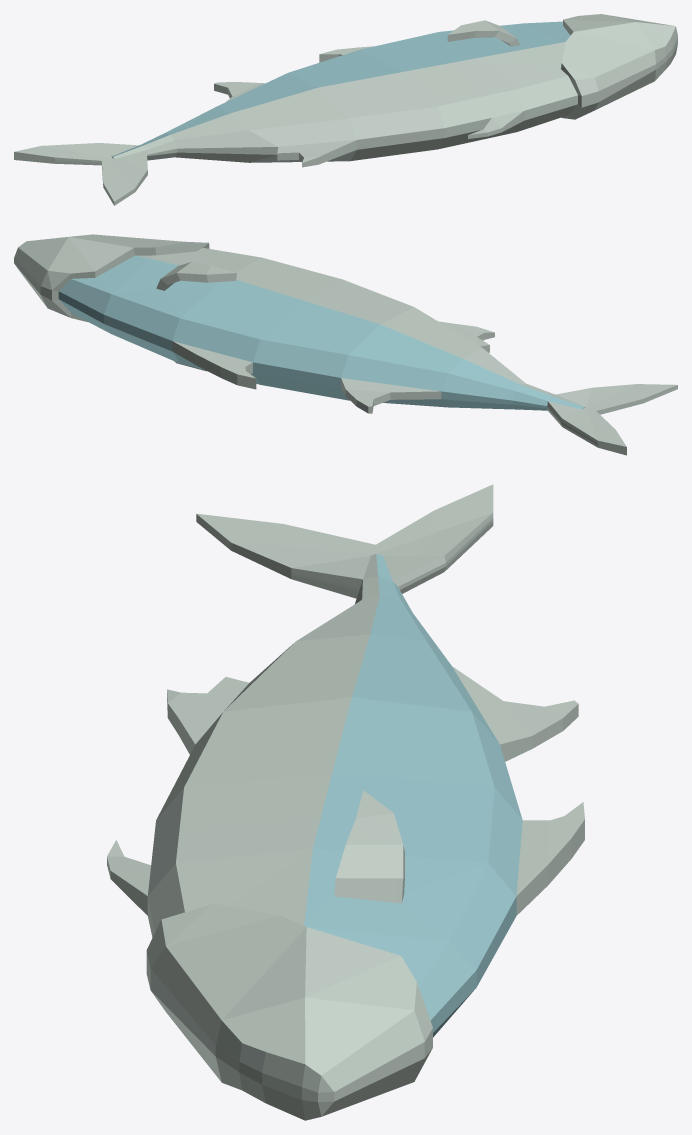
The model's file is sardine_meat_raw.glb.
The picture shows the model from 3 angles, top to bottom: view 1: azimuth 30°, elevation 25°; view 2: azimuth 150°, elevation 25°; view 3: azimuth 270°, elevation 25°; orthographic projection. The views are drawn at different scales.
Visible parts, largest first — view 1: sardine_meat_raw; view 2: sardine_meat_raw; view 3: sardine_meat_raw.
Part boxes in pixels (x1,y1,x2,y2): sardine_meat_raw: (14,14,677,205); sardine_meat_raw: (14,234,677,455); sardine_meat_raw: (107,484,584,1120).
Size of the model in its own units: 0.3451 by 0.0499 by 0.1152.
